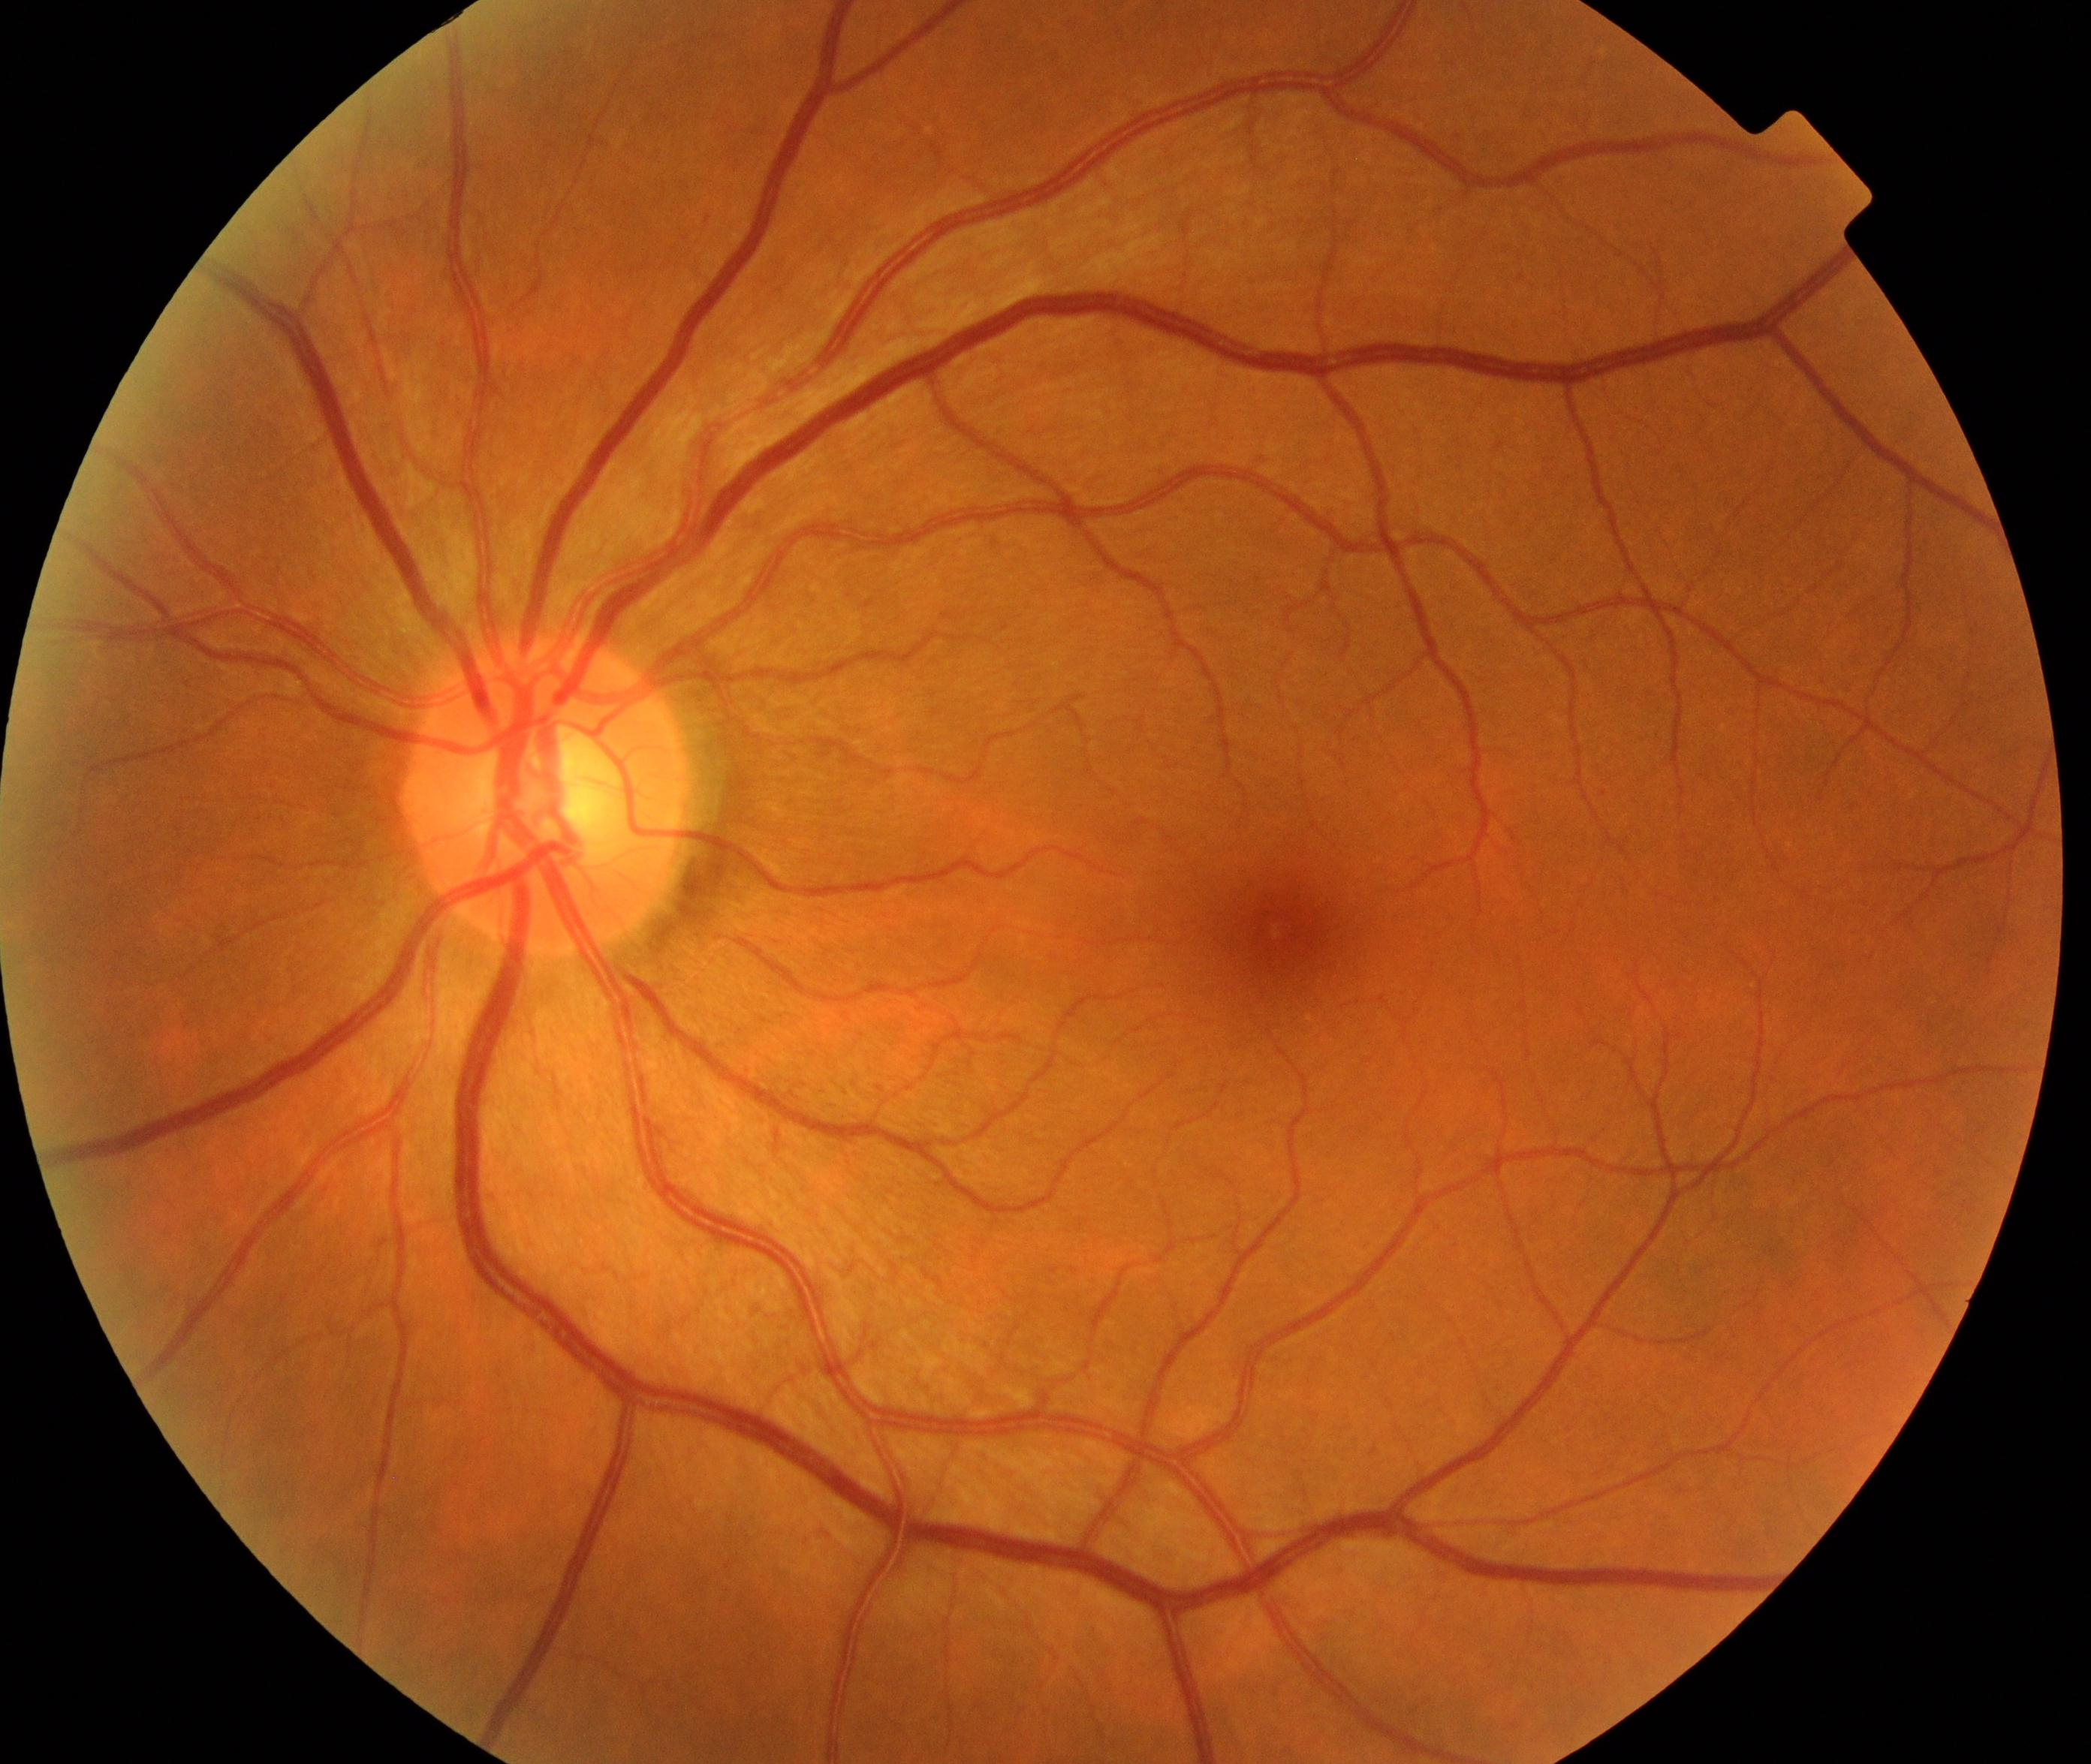Optic Cup: (513, 721, 616, 842)
Optic Disc: (401, 632, 693, 955)
